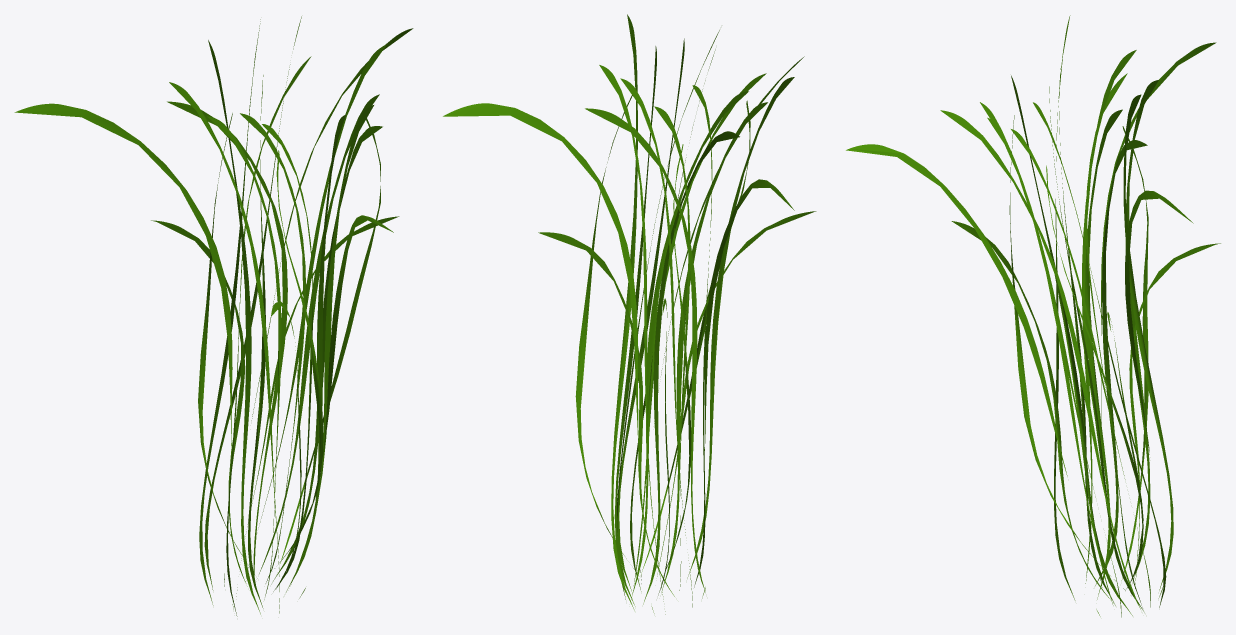
The model's file is seaPlant.dae.
3 renders of one model, left to right at view 1: azimuth 30°, elevation 25°; view 2: azimuth 150°, elevation 25°; view 3: azimuth 270°, elevation 25°, orthographic. The views are drawn at different scales.
Parts seen in each view (by area): view 1: Composant_9 (×23); view 2: Composant_9 (×21); view 3: Composant_9 (×23).
Part boxes in pixels (x1=…): Composant_9 (×23): x1=14, y1=16, x2=413, y2=616; Composant_9 (×21): x1=443, y1=14, x2=816, y2=614; Composant_9 (×23): x1=846, y1=15, x2=1220, y2=617.
Size of the model in its own units: 44.28 by 39.18 by 62.44.
